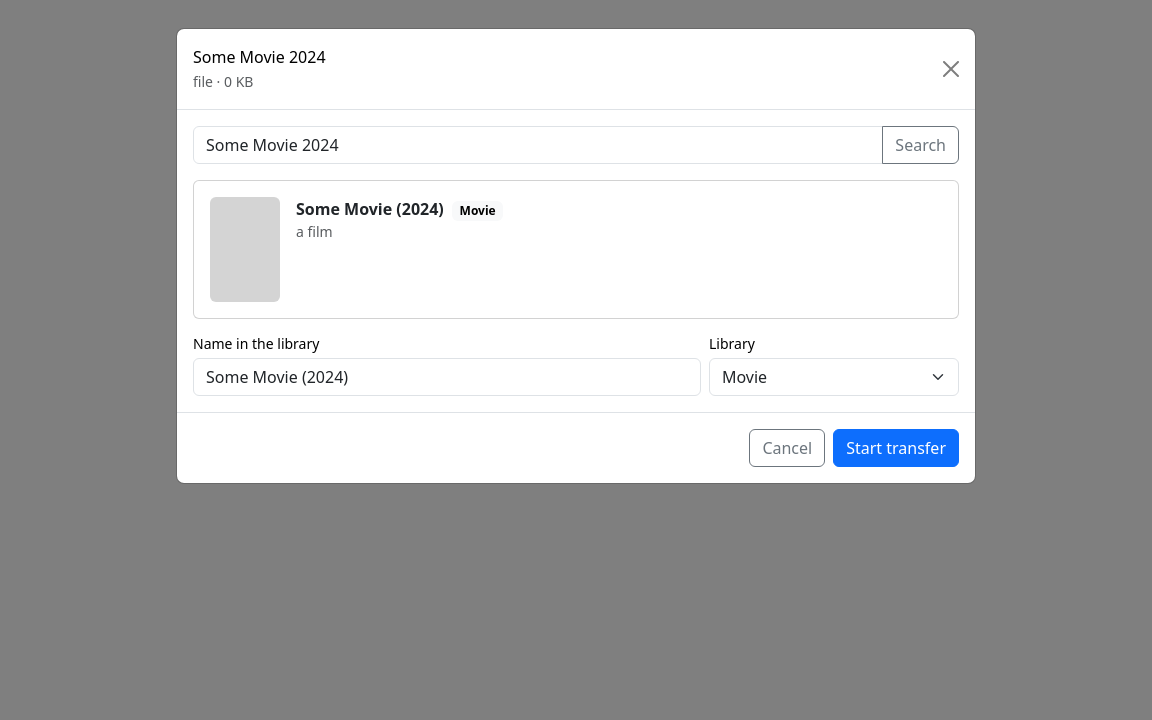
Test: searches TMDb again under a name the release does not carry
Expected: the text "Some Movie (2024)" is shown, [296,198,444,220]
Replace the text in the field named "Search TMDb for" with "the right one". click: (538,145)
box: [193,126,883,164]
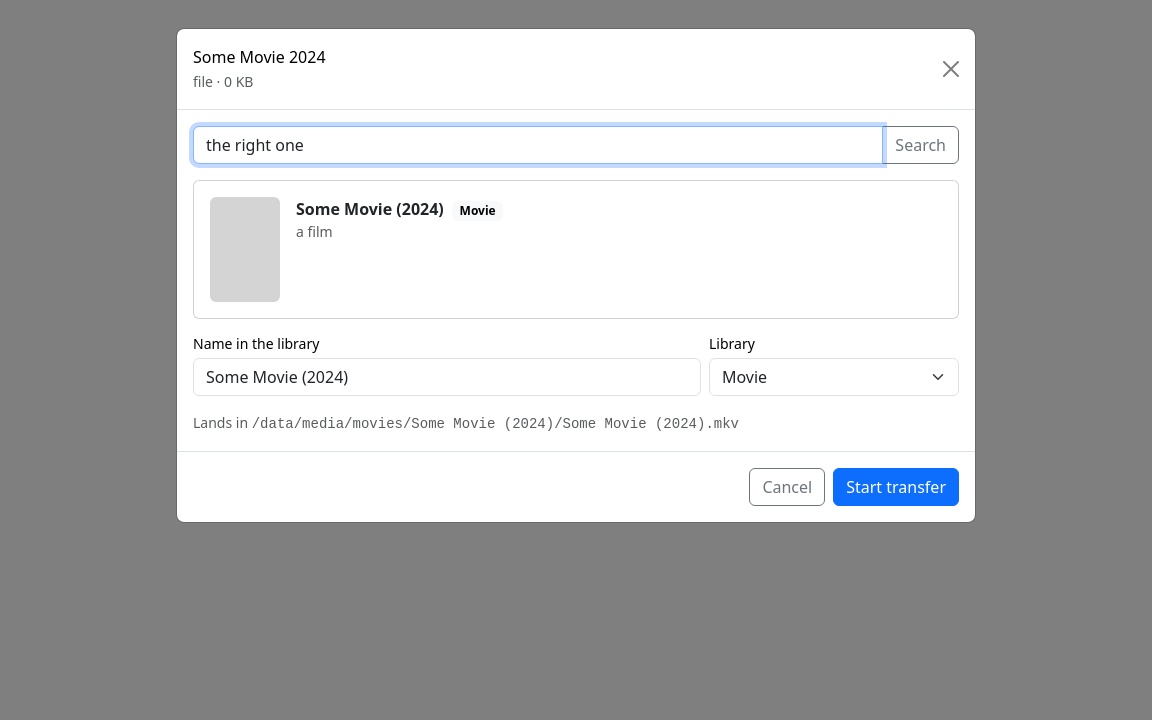
Click the button "Search". click: (921,145)
box: [882,126,959,164]
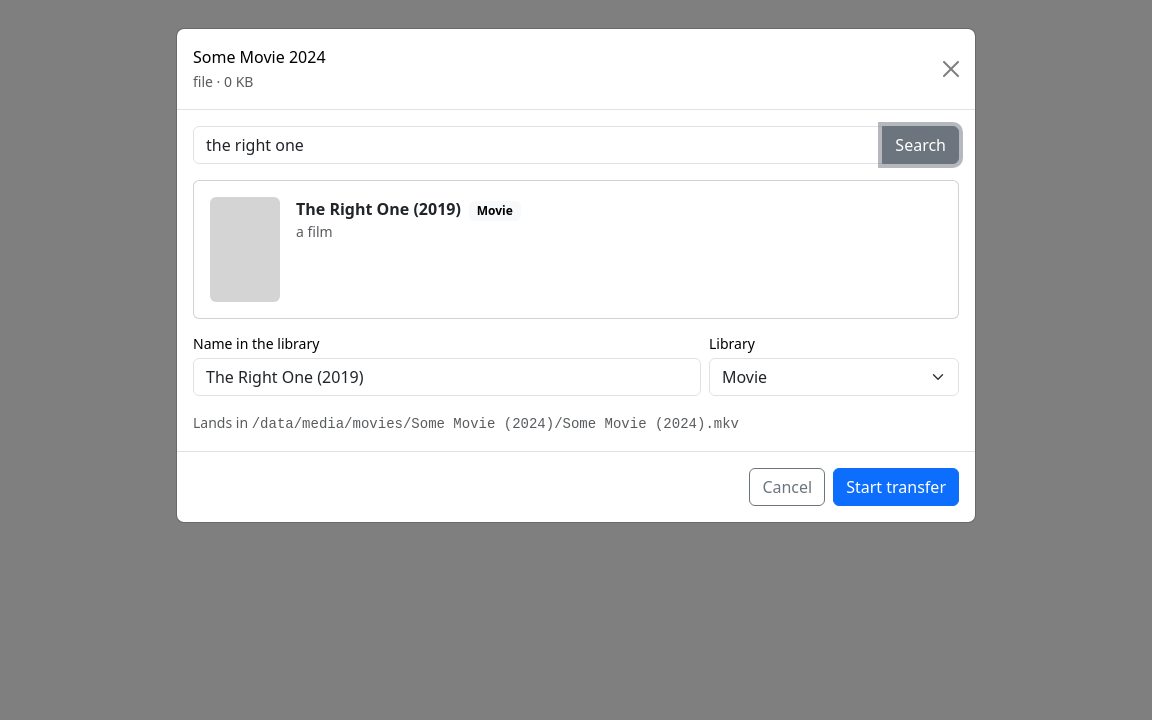
Expected: the text "The Right One (2019)" is shown, [296,198,461,220]
Expected: the field labelled "Name in the library" holds "The Right One (2019)", [193,358,701,396]
